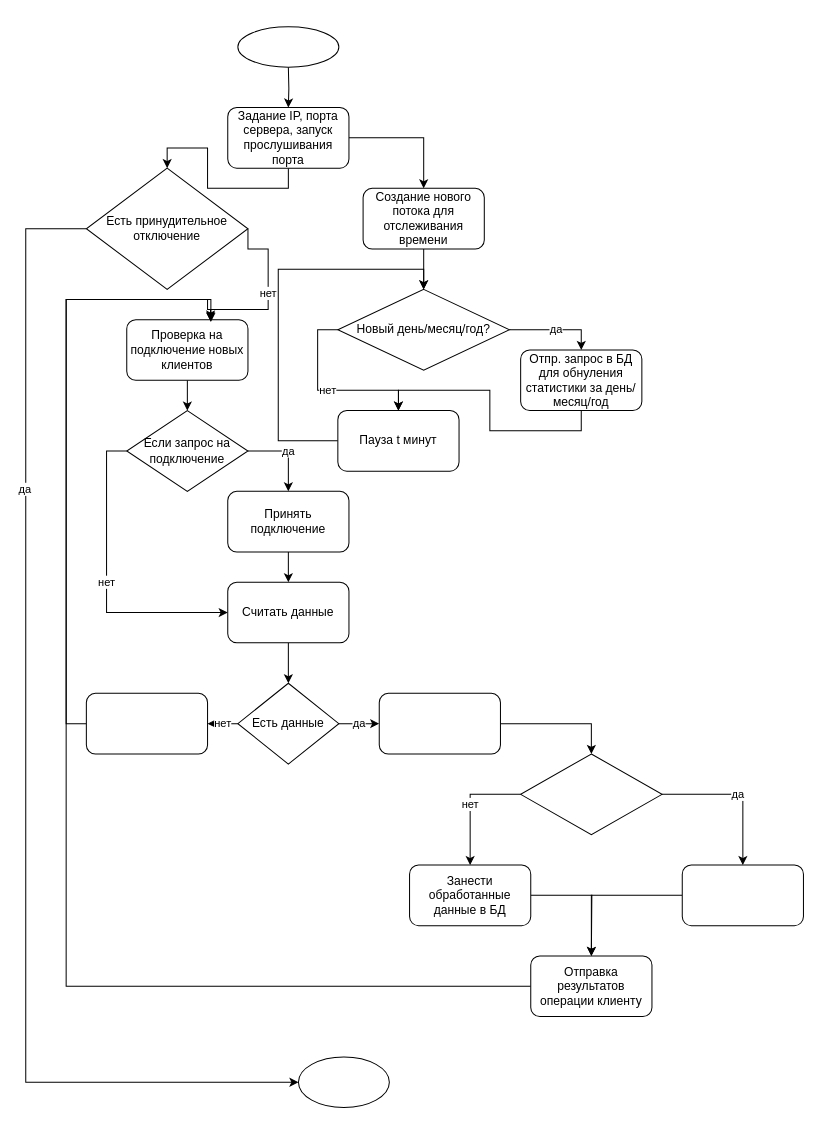
Image size: 821x1125. Some labels were removed from this diagram. The shapes that lost their labels are listed below. From the top down, each one's centre as x and y in pixels, then its label:
At pixel 288 46: "Начало".
At pixel 146 723: "Закрыть соединение".
At pixel 439 723: "Дешифровать данные".
At pixel 591 794: "Запрос на чтение данных?".
At pixel 742 895: "Получить данные из БД и отправить их".
At pixel 343 1081: "Конец".
